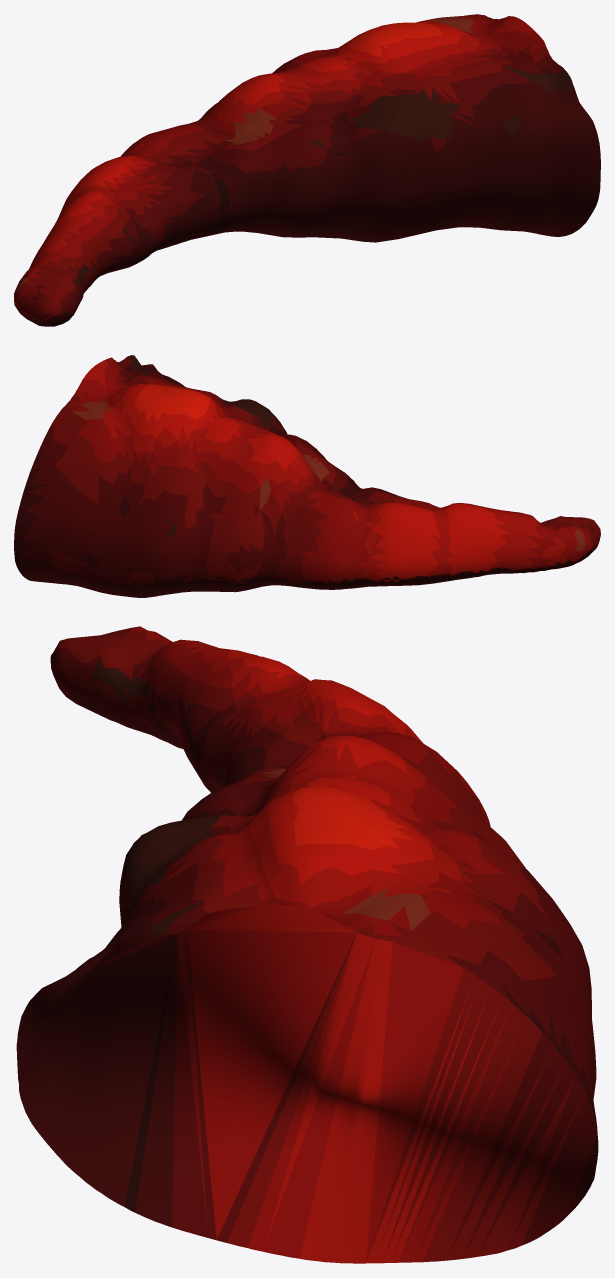
Rendered from red_mound_b_l.glb.
The picture shows the model from 3 angles, top to bottom: view 1: azimuth 30°, elevation 25°; view 2: azimuth 150°, elevation 25°; view 3: azimuth 270°, elevation 25°; orthographic projection. The views are drawn at different scales.
Parts seen in each view (by area): view 1: red_mound_b_l; view 2: red_mound_b_l; view 3: red_mound_b_l.
Boxes of the visible parts, x1,y1,x2,y2 form: red_mound_b_l: (14,14,600,326); red_mound_b_l: (14,355,600,597); red_mound_b_l: (16,626,598,1263).
Bounding box in the file's own units: 22.75 × 8.73 × 12.49.
